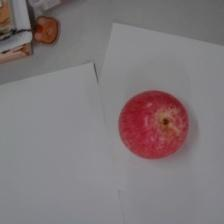red: (117, 89, 190, 161)
